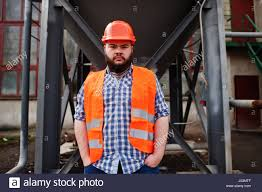Person_wearing_helmet: (100, 17, 139, 50)
